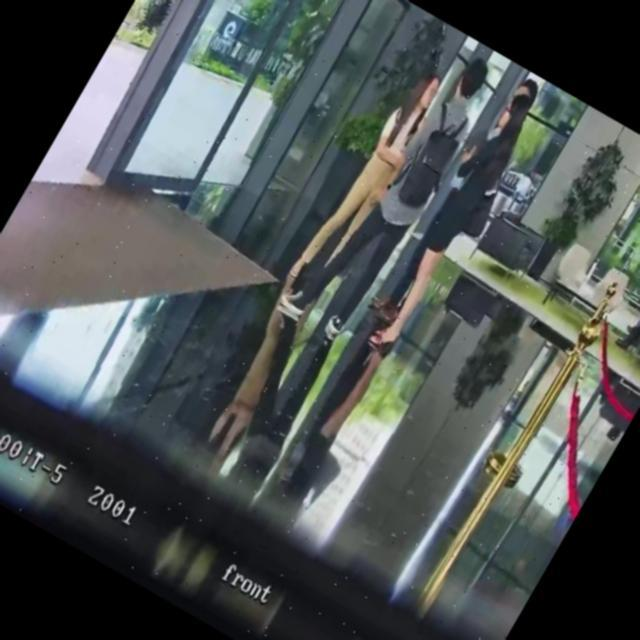person: (273, 32, 507, 354), (356, 69, 560, 368), (278, 60, 451, 312), (613, 274, 640, 373)
